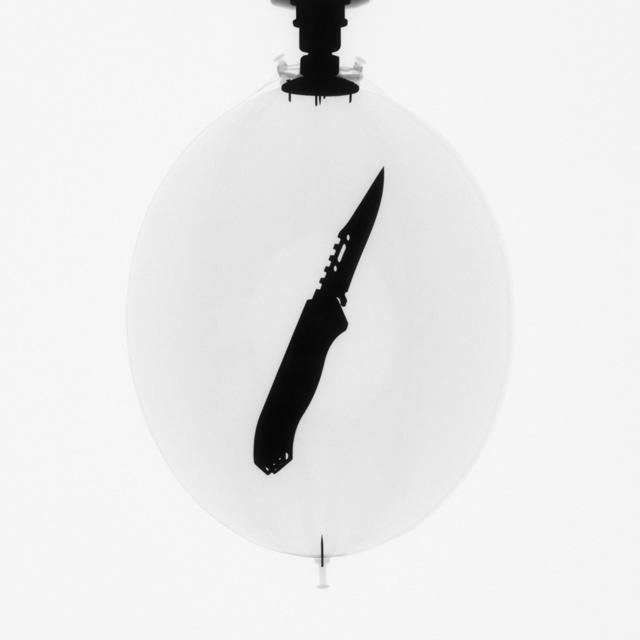knife: (235, 153, 396, 472)
